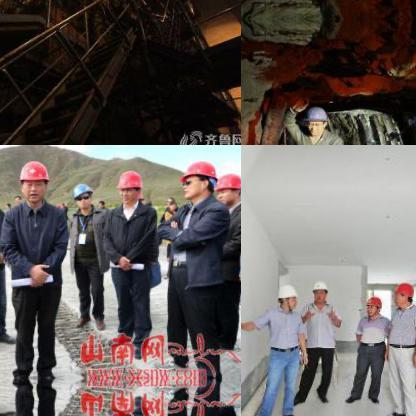Helmet: (178, 158, 218, 204), (16, 158, 52, 204), (115, 165, 144, 205), (214, 170, 240, 212), (298, 101, 328, 135), (69, 180, 95, 210), (276, 279, 298, 309), (390, 278, 412, 306), (308, 276, 327, 304), (362, 294, 382, 316)
